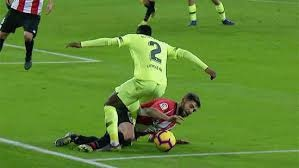falling: (52, 86, 207, 151)
